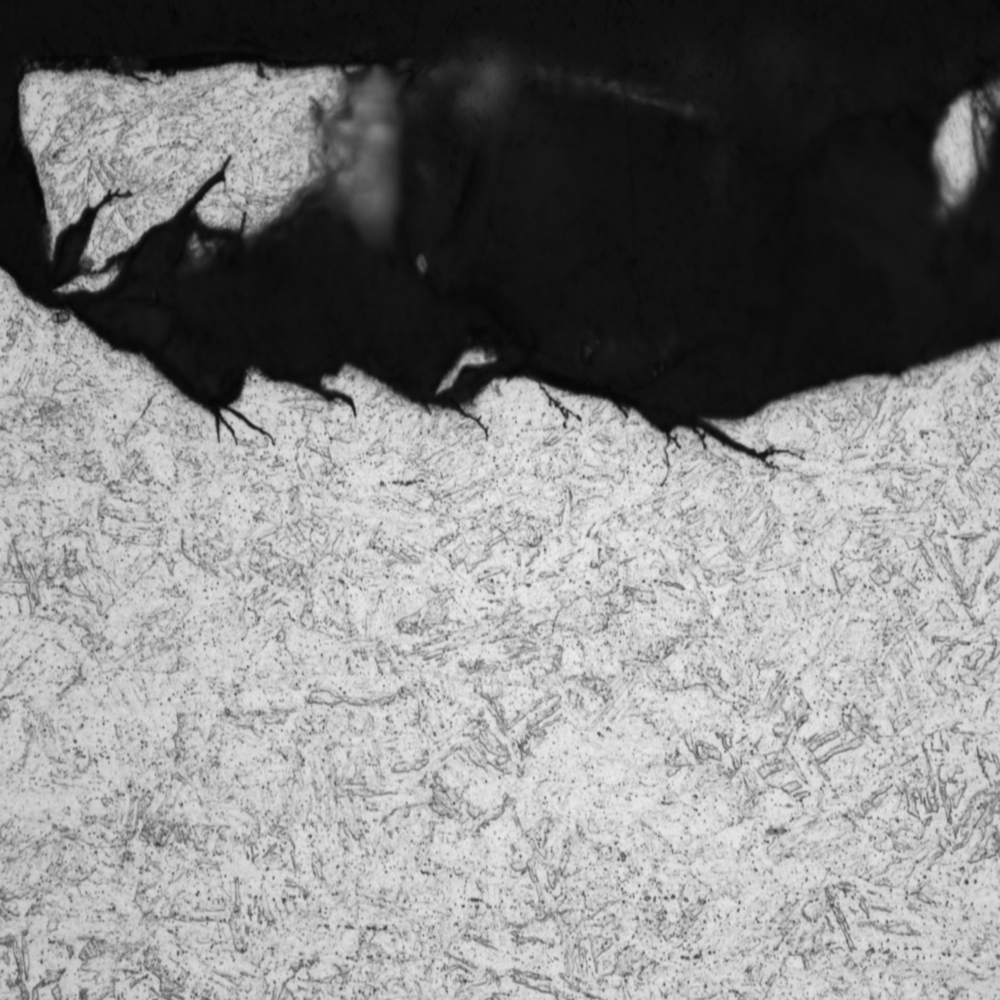crack: (1, 97, 302, 471), (322, 344, 820, 479)
